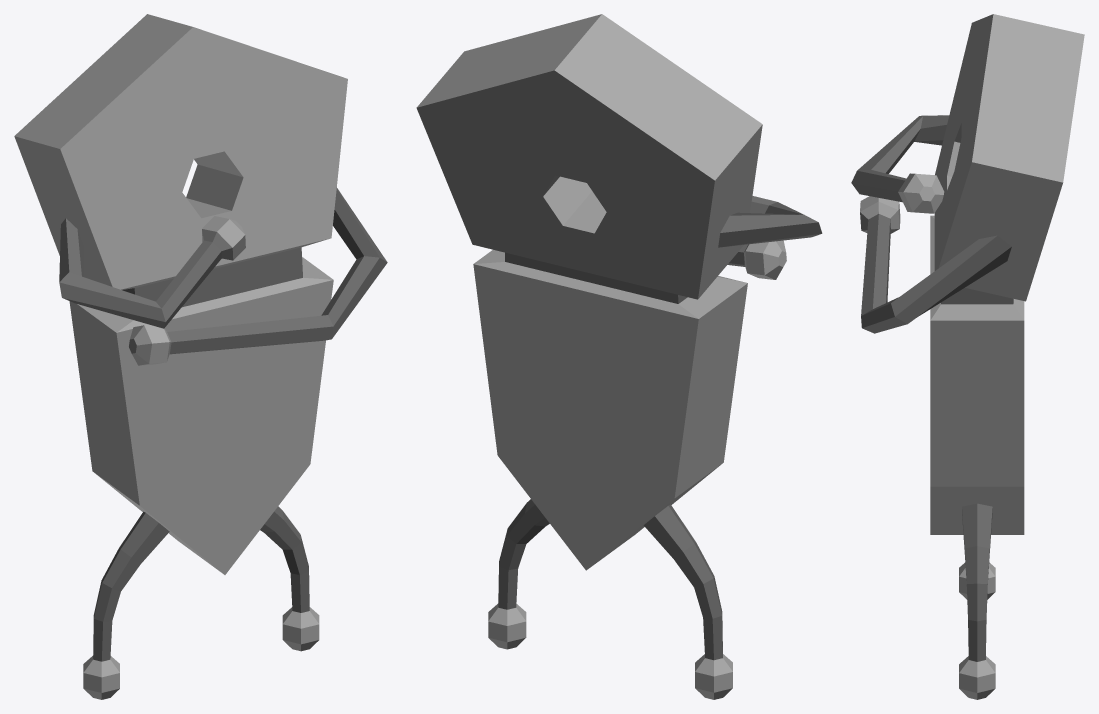
The model's file is Toeni4.glb.
3 renders of one model, left to right at view 1: azimuth 30°, elevation 25°; view 2: azimuth 150°, elevation 25°; view 3: azimuth 270°, elevation 25°, orthographic. The views are drawn at different scales.
Parts seen in each view (by area): view 1: Toeni4; view 2: Toeni4; view 3: Toeni4.
Part boxes in pixels (x1,y1,x2,y2): Toeni4: (14,14,387,699); Toeni4: (416,14,822,699); Toeni4: (851,14,1084,699).
Bounding box in the file's own units: 5.75 × 11.07 × 3.7.
Materials: 1 (1 with a texture image).
